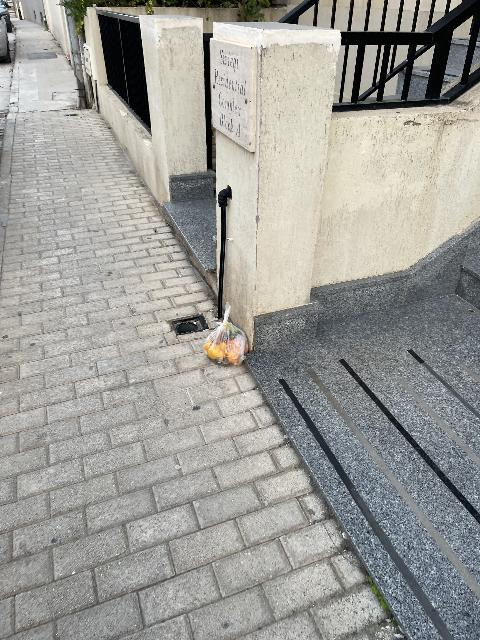Organic -White-: (204, 304, 248, 365)
Other: (223, 330, 226, 334)
